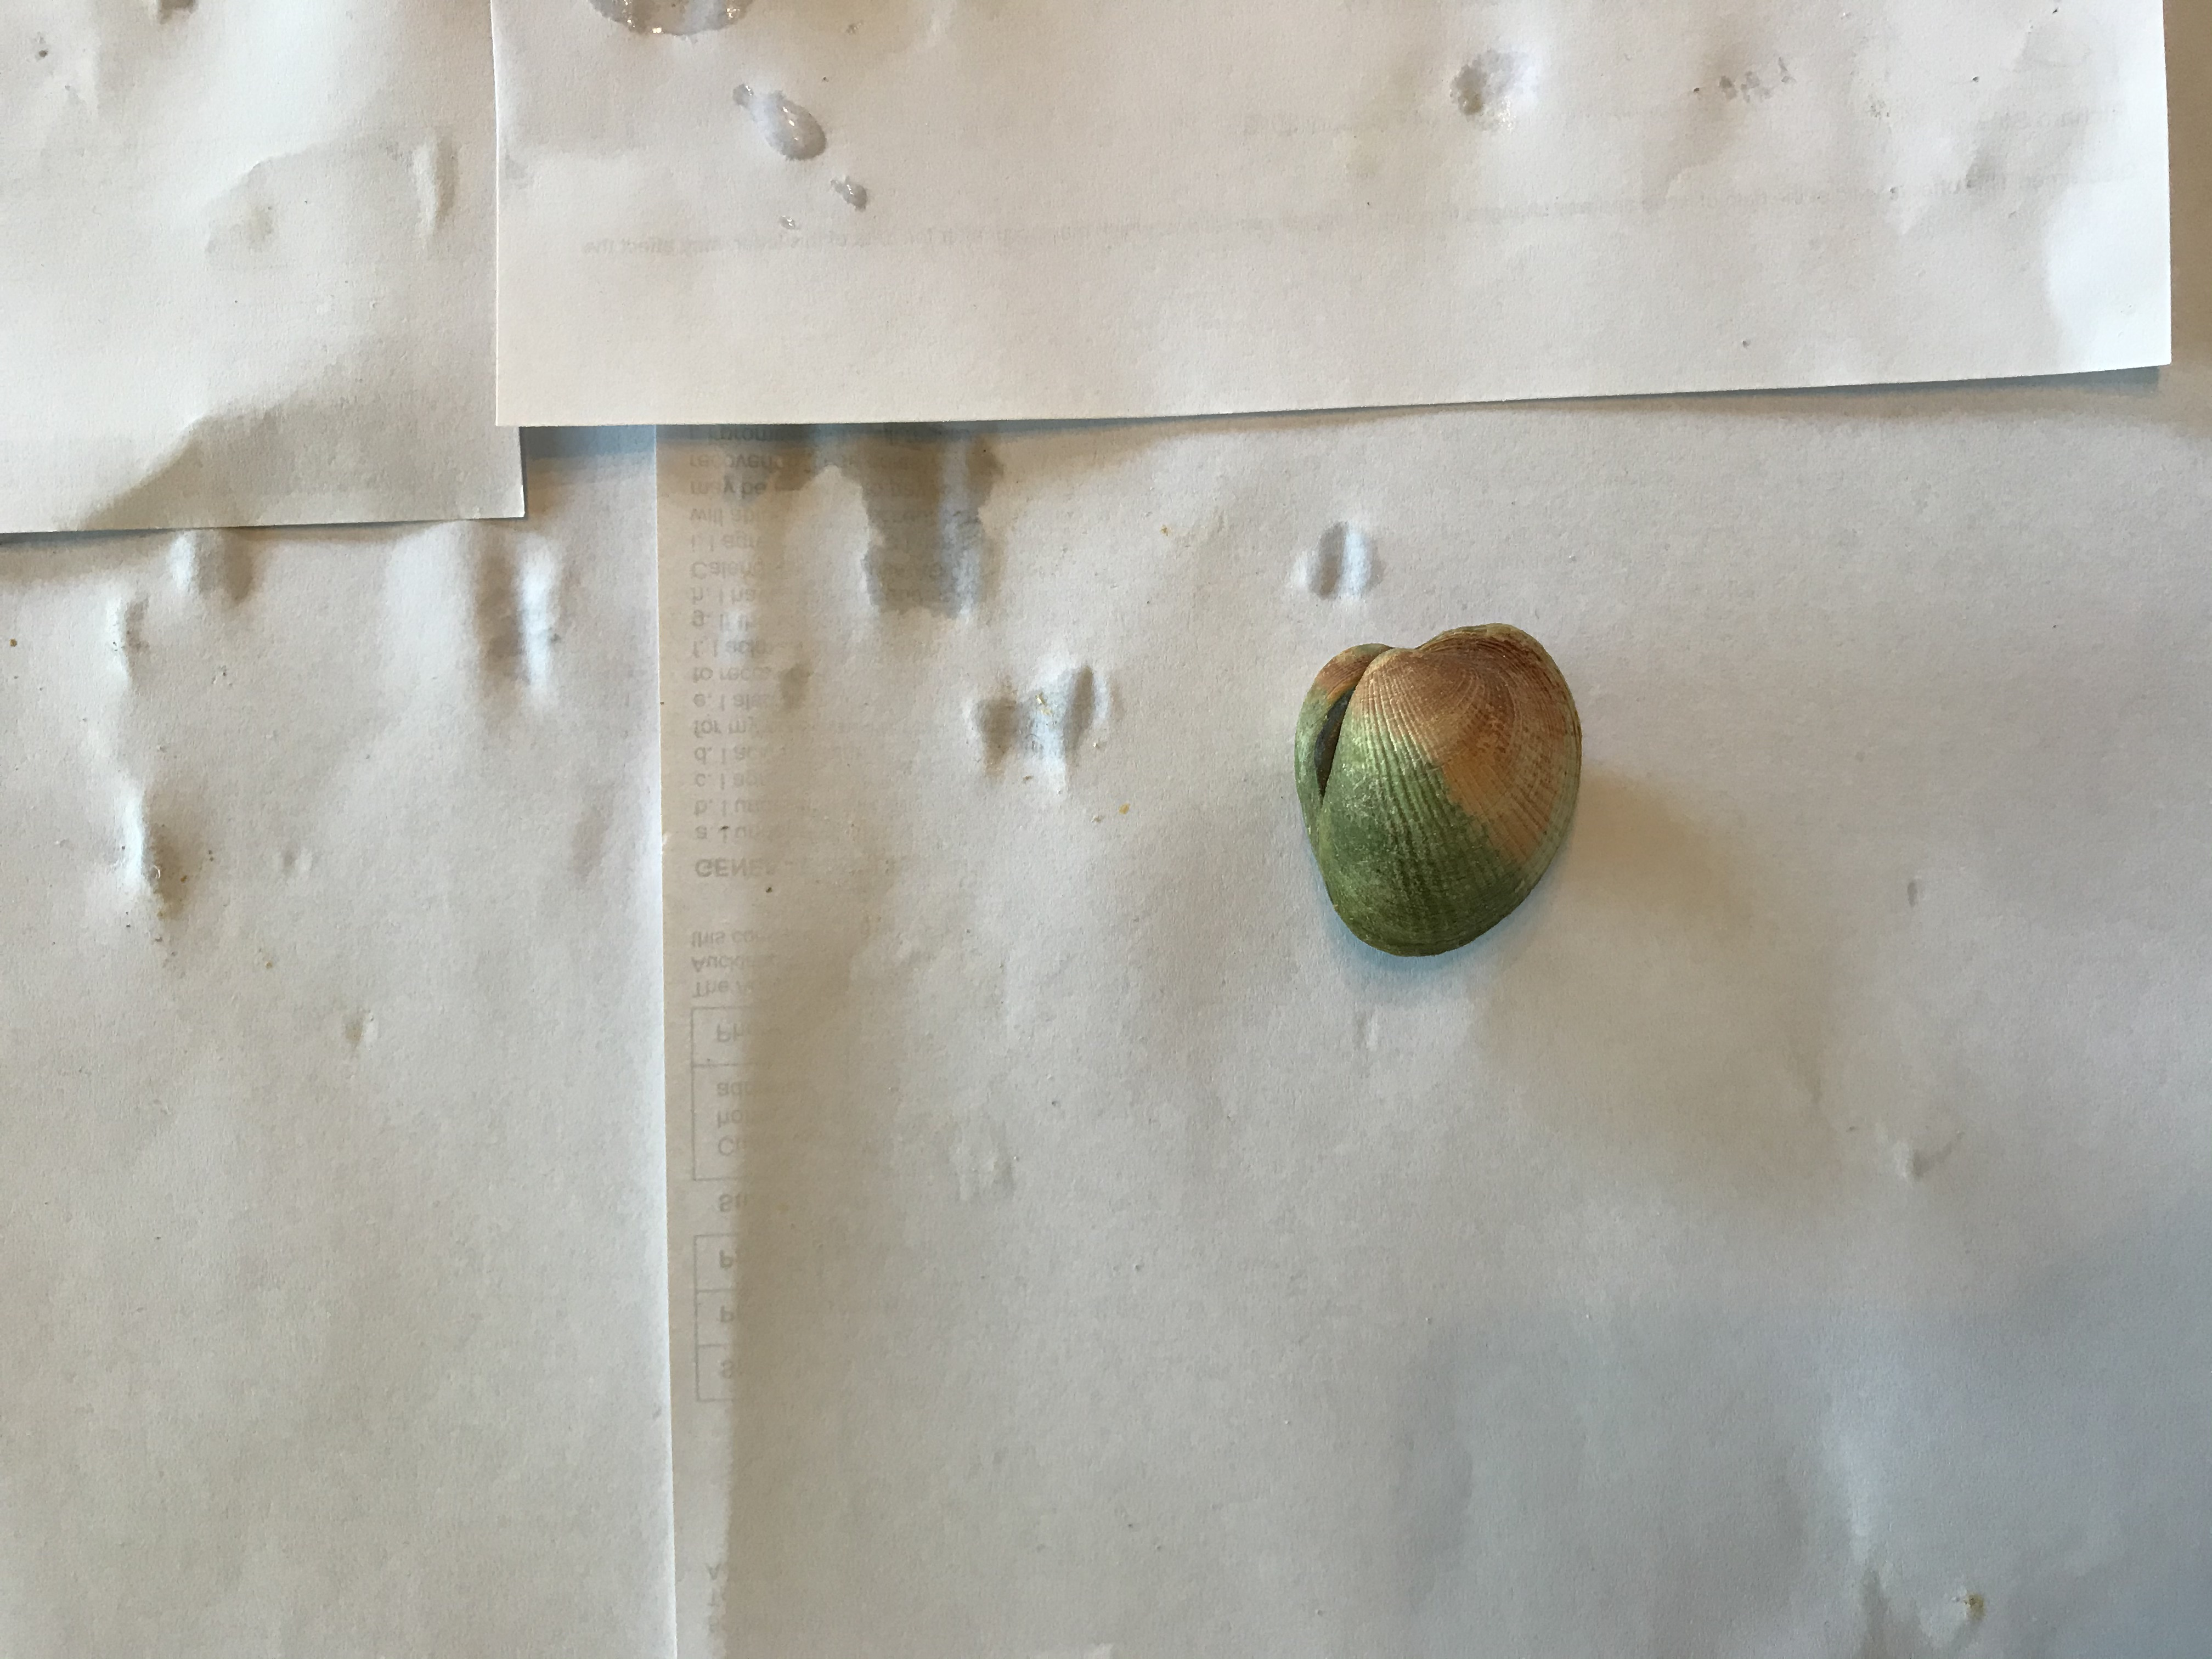cockle: (1289, 617, 1594, 967)
